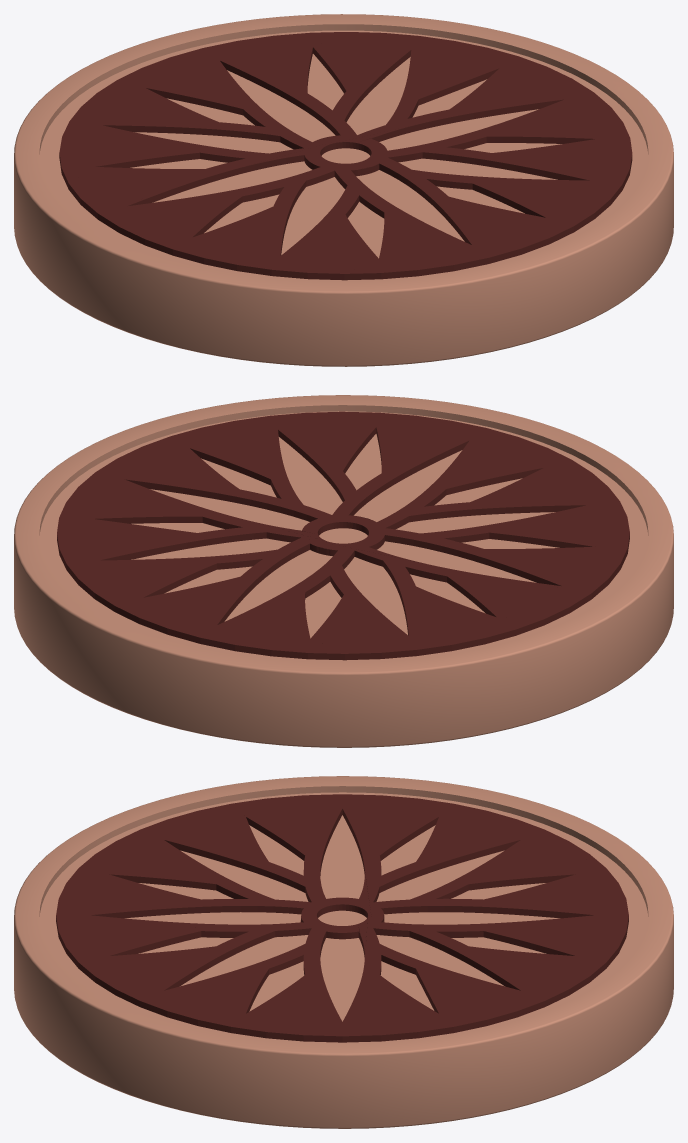
The model's file is Chrysanthemum_W.fbx.
The picture shows the model from 3 angles, top to bottom: view 1: azimuth 30°, elevation 25°; view 2: azimuth 150°, elevation 25°; view 3: azimuth 270°, elevation 25°; orthographic projection.
Parts seen in each view (by area): view 1: Tile09.001; view 2: Tile09.001; view 3: Tile09.001.
Boxes of the visible parts, x1=… form: Tile09.001: x1=14, y1=14, x2=673, y2=366; Tile09.001: x1=14, y1=395, x2=673, y2=747; Tile09.001: x1=14, y1=776, x2=673, y2=1128.
Bounding box in the file's own units: 13.25 × 1.67 × 13.25.
